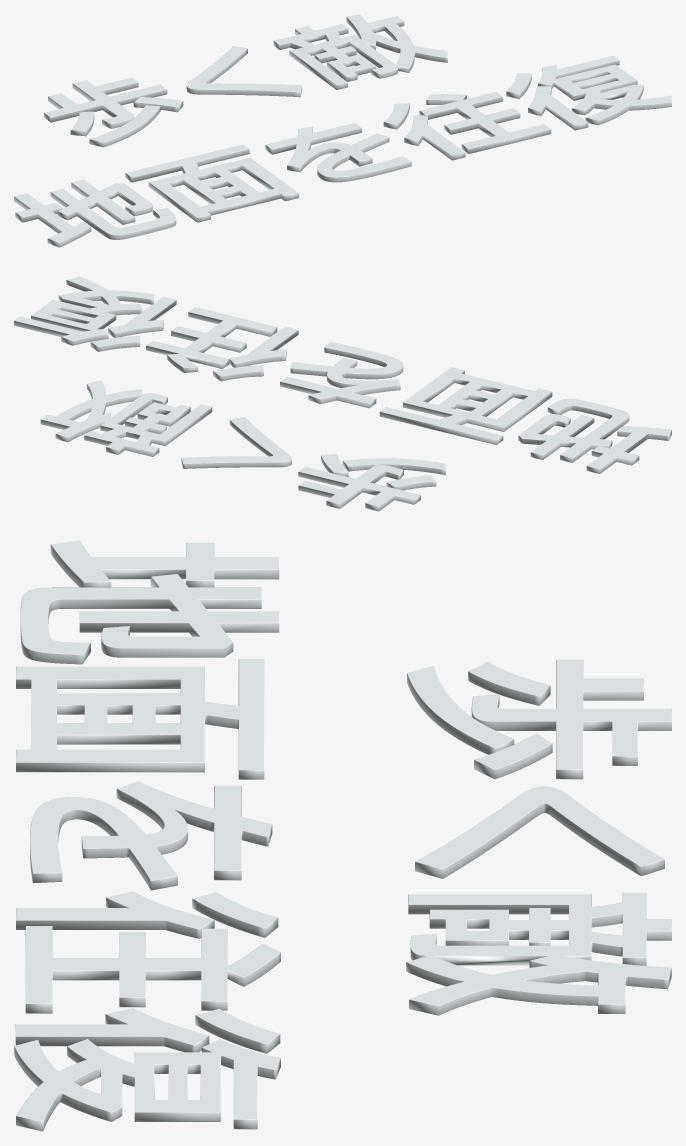
The model's file is stage2_crash_cube.obj.
3 views of the same model, one above another, from view 1: azimuth 30°, elevation 25°; view 2: azimuth 150°, elevation 25°; view 3: azimuth 270°, elevation 25° (orthographic). The views are drawn at different scales.
Visible parts, largest first — view 1: stage2_crash_cube; view 2: stage2_crash_cube; view 3: stage2_crash_cube.
Boxes of the visible parts, x1,y1,x2,y2 form: stage2_crash_cube: (14,14,671,247); stage2_crash_cube: (14,276,671,511); stage2_crash_cube: (14,540,671,1131).
Size of the model in its own units: 2.13 by 0.0167 by 1.02.
Materials: 1 (1 with a texture image).
